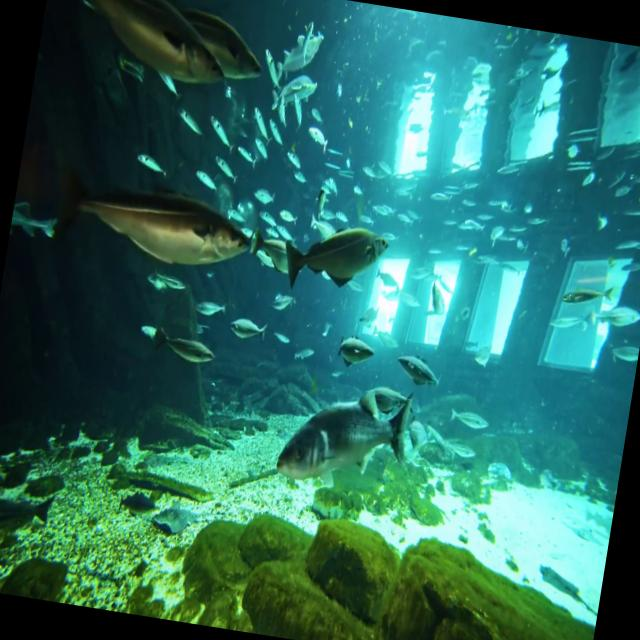fish: (53, 169, 261, 277), (41, 0, 238, 98), (274, 374, 412, 496), (276, 215, 391, 304), (172, 5, 280, 89)
